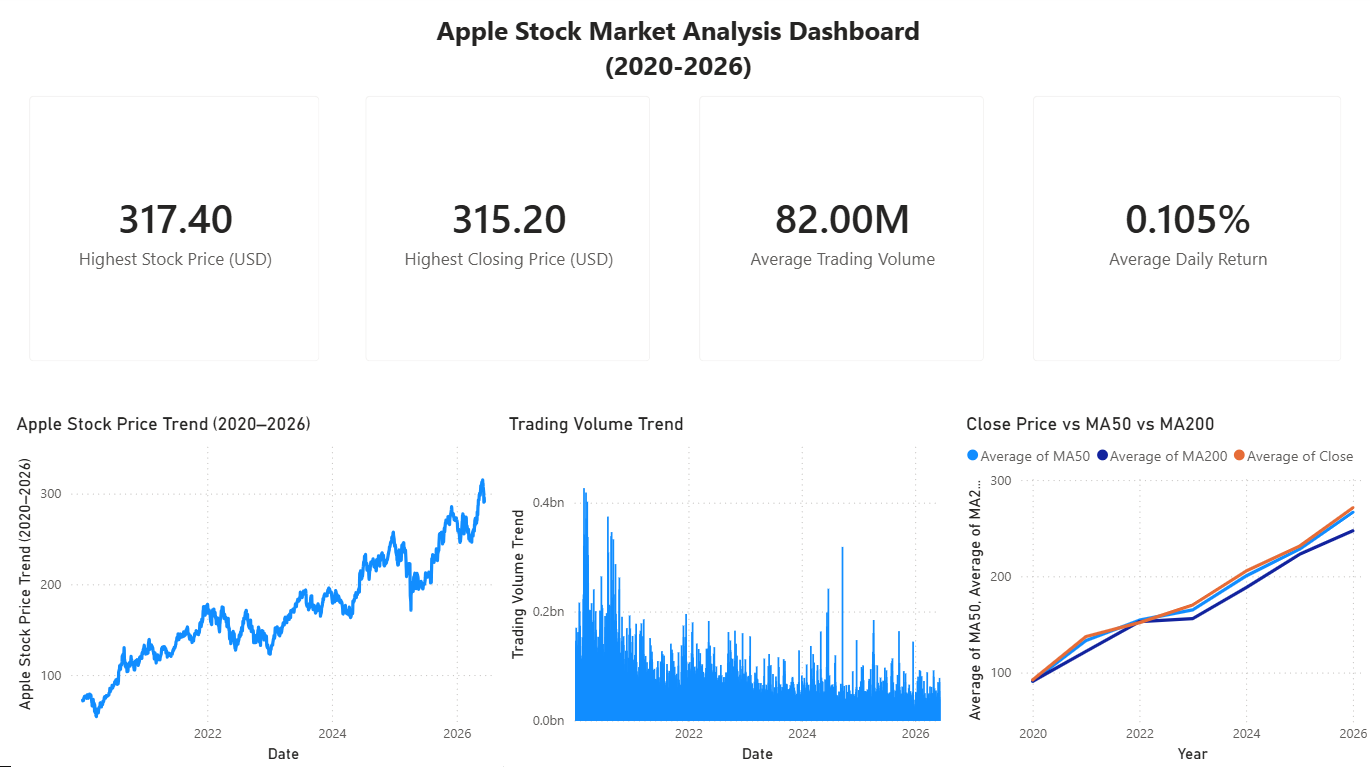

What the dashboard file says about the page in this screenshot:
{"tool":"powerbi","page":{"name":"Page 1","canvas":[1280,720],"ordinal":0},"visuals":[{"type":"lineChart","title":"Apple Stock Price Trend (2020–2026)","fields":{"Y":["Avg(AAPL.Close)"],"Category":["AAPL.Date"]},"box":[13.5,390.1,458.6,330.2],"z":0},{"type":"clusteredColumnChart","title":"Trading Volume Trend","fields":{"Y":["Sum(AAPL.Volume)"],"Category":["AAPL.Date"]},"box":[472,390.1,425.5,330.2],"z":5000},{"type":"lineChart","title":"Close Price vs MA50 vs MA200","fields":{"Category":["AAPL.Date.Variation.Date Hierarchy.Year","AAPL.Date.Variation.Date Hierarchy.Quarter","AAPL.Date.Variation.Date Hierarchy.Month","AAPL.Date.Variation.Date Hierarchy.Day"],"Y":["Avg(AAPL.MA50)","Avg(AAPL.MA200)","Avg(AAPL.Close)"]},"box":[897.6,390.1,382.7,330.2],"z":6000},{"type":"textbox","box":[0,12.2,1269.3,66],"z":7000},{"type":"cardVisual","fields":{"Data":["Max(AAPL.High)"]},"box":[13.5,78.3,304.5,281.3],"z":7002},{"type":"cardVisual","fields":{"Data":["Max(AAPL.Close)"]},"box":[326.5,78.3,299.6,281.3],"z":7003},{"type":"cardVisual","fields":{"Data":["Avg(AAPL.Volume)"]},"box":[637.1,78.3,299.6,281.3],"z":7004},{"type":"cardVisual","fields":{"Data":["Avg(AAPL.Daily_Return)"]},"box":[947.7,78.3,321.6,281.3],"z":7005}]}

Visuals, with their boxes in screenshot pixels (x1, y1, x2, y2), scaled from the page's 1280x720 canvas onto the 1370x767 screenshot:
"Apple Stock Price Trend (2020–2026)" lineChart: 14,416,505,766
"Trading Volume Trend" clusteredColumnChart: 505,416,961,766
"Close Price vs MA50 vs MA200" lineChart: 961,416,1369,766
textbox: 0,13,1359,83
cardVisual - Max(AAPL.High): 14,83,340,383
cardVisual - Max(AAPL.Close): 349,83,670,383
cardVisual - Avg(AAPL.Volume): 682,83,1003,383
cardVisual - Avg(AAPL.Daily_Return): 1014,83,1359,383
